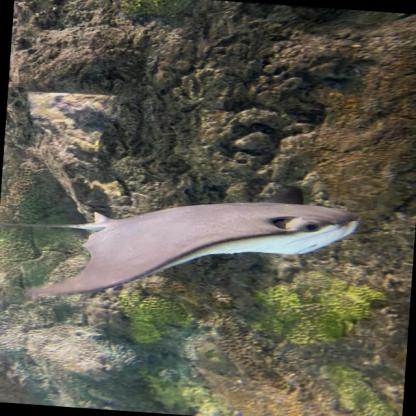stingray: (32, 185, 360, 320)
